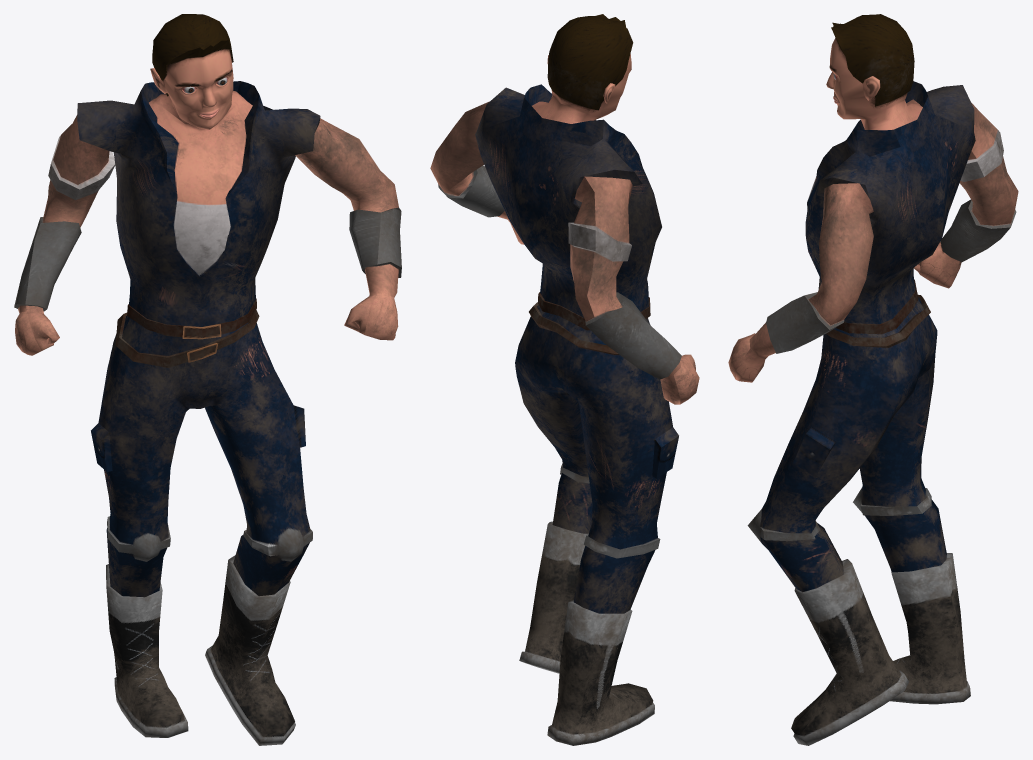
File: Anim_ataque_f1_jugador.0011.obj
3 views of the same model, side by side, from view 1: azimuth 30°, elevation 25°; view 2: azimuth 150°, elevation 25°; view 3: azimuth 270°, elevation 25° (orthographic).
Visible parts, largest first — view 1: polySurface1; view 2: polySurface1; view 3: polySurface1.
Part boxes in pixels (x1=…): polySurface1: x1=14, y1=14, x2=401, y2=745; polySurface1: x1=430, y1=14, x2=699, y2=745; polySurface1: x1=728, y1=14, x2=1018, y2=745.
Size of the model in its own units: 4.53 by 9.62 by 3.61.
